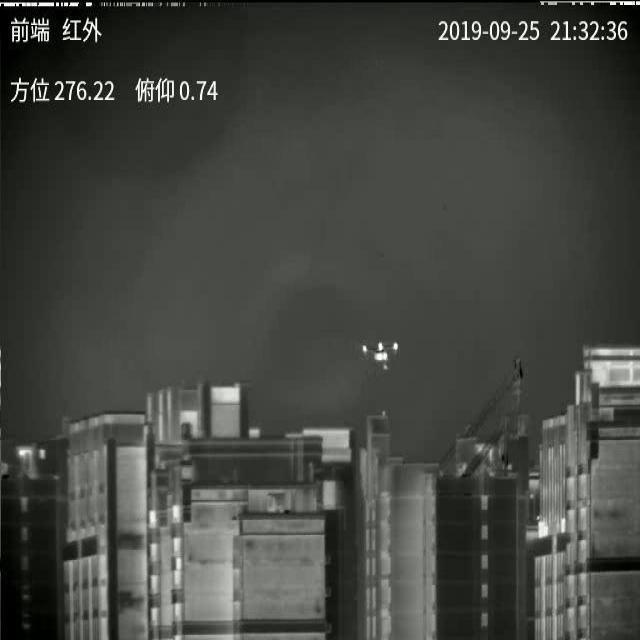drone: (362, 341, 399, 370)
